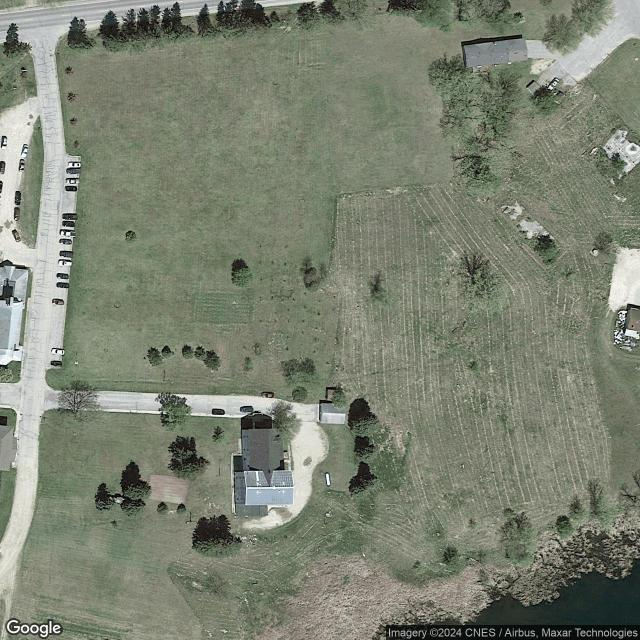Propane: (323, 471, 332, 487)
